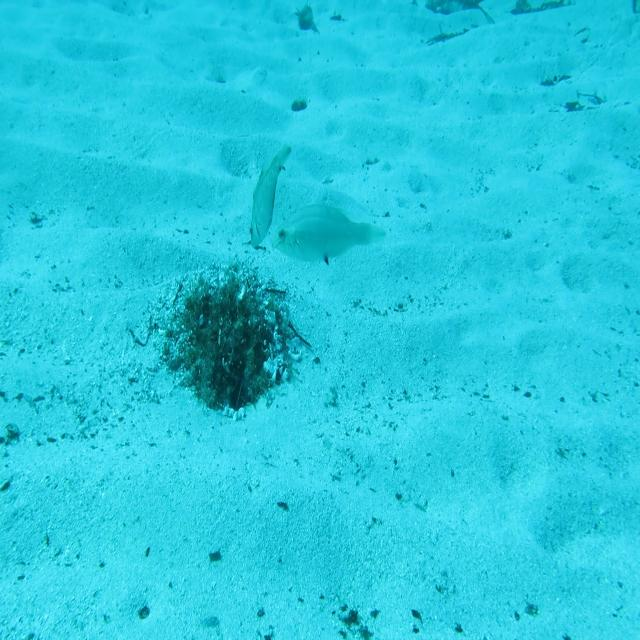H_DOWN: (242, 134, 290, 261)
female: (270, 193, 385, 286)
nest: (145, 263, 296, 422)
